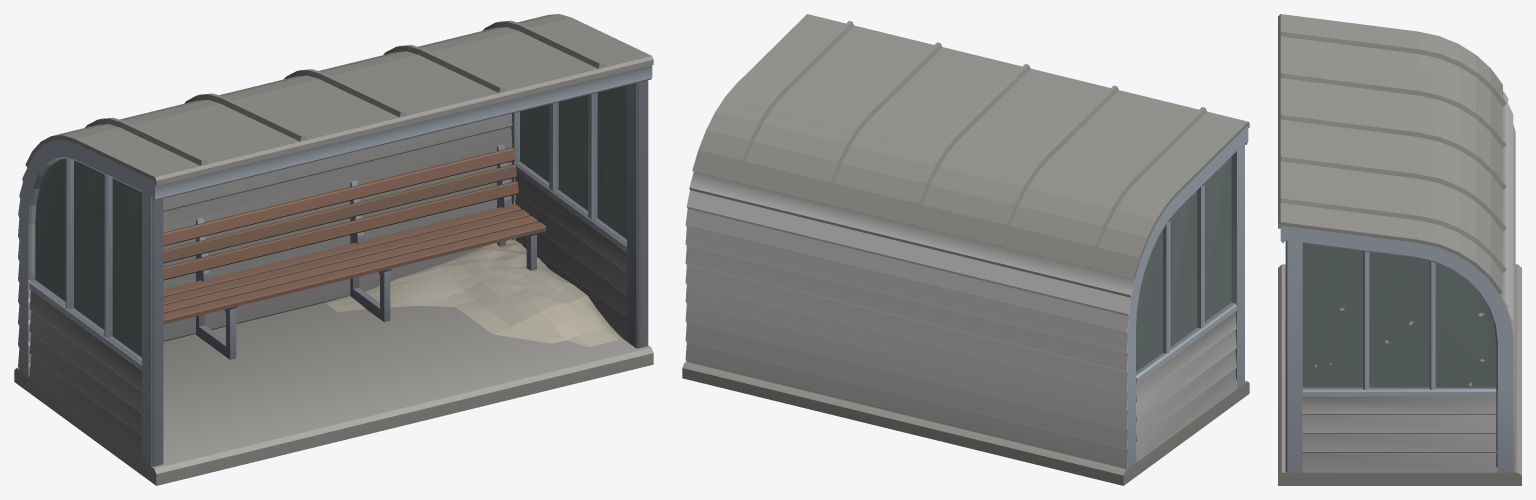
File: shelter.glb
The picture shows the model from 3 angles, left to right: view 1: azimuth 30°, elevation 25°; view 2: azimuth 150°, elevation 25°; view 3: azimuth 270°, elevation 25°; orthographic projection. The views are drawn at different scales.
Parts seen in each view (by area): view 1: shelter.001; view 2: shelter.001; view 3: shelter.001.
Part boxes in pixels (<box>): shelter.001: <box>14,14,653,485</box>; shelter.001: <box>682,14,1249,485</box>; shelter.001: <box>1278,14,1521,485</box>.
Size of the model in its own units: 4 by 2.4 by 1.98.
